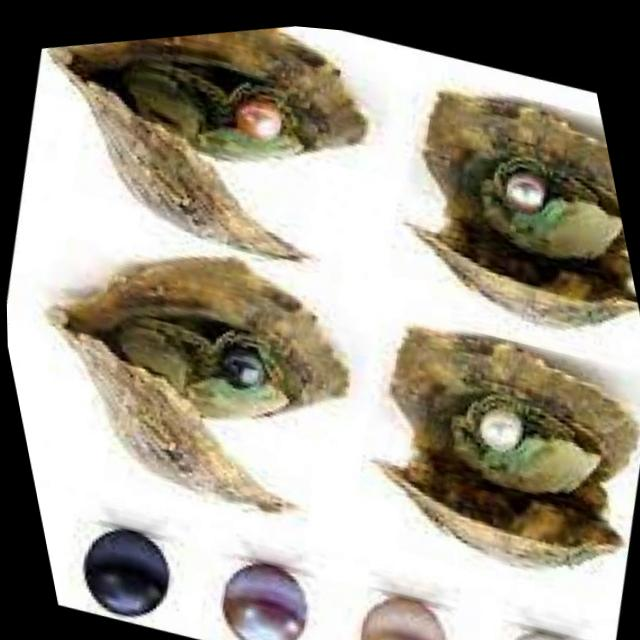Oyster-Open: (33, 218, 378, 557), (44, 4, 393, 294), (388, 327, 635, 563), (420, 92, 637, 325)
